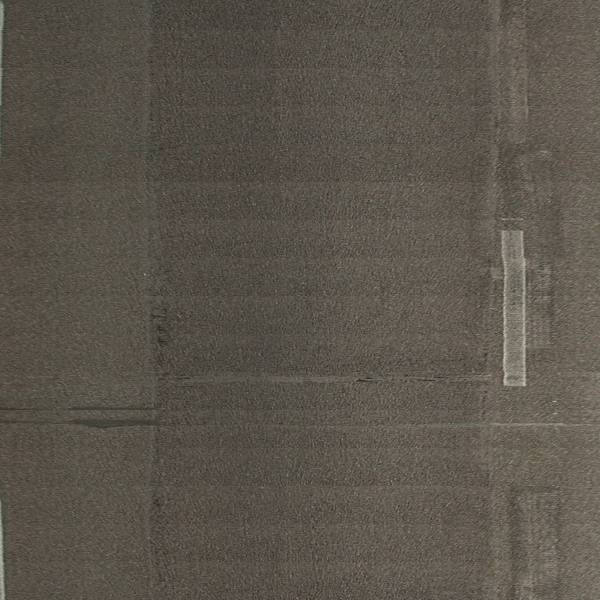road_damage: (212, 367, 489, 390), (149, 269, 175, 370), (13, 416, 166, 433)
